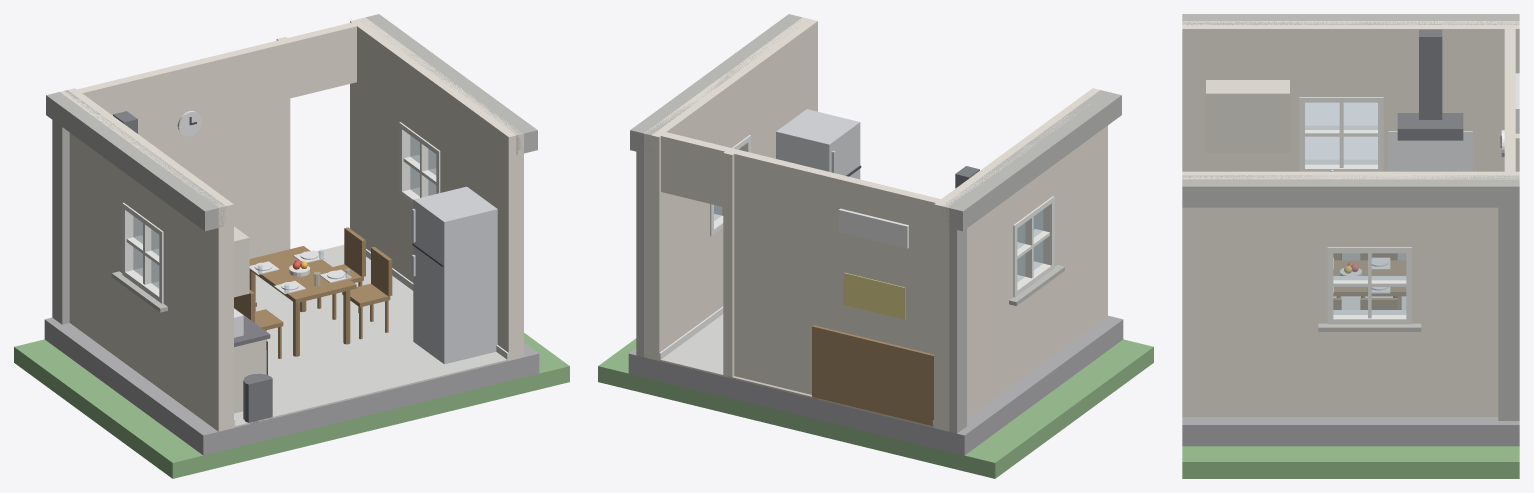
File: tube_kitchen.glb
3 views of the same model, side by side, from view 1: azimuth 30°, elevation 25°; view 2: azimuth 150°, elevation 25°; view 3: azimuth 270°, elevation 25° (orthographic). The views are drawn at different scales.
Visible parts, largest first — view 1: wall, floor_tile, grass, metal, concrete, foundation, wood, trim, cabinet, glass, steel_dark, white (+2 smaller); view 2: wall, concrete, grass, foundation, wood, metal, trim, cloth3, white, floor_tile, glass, floor_carpet; view 3: wall, concrete, grass, foundation, glass, trim, cabinet, steel_dark, wall_tile, wood, stone, white (+1 smaller).
Boxes of the visible parts, x1,y1,x2,y2 form: wall: (60,17,523,431); floor_tile: (234,249,508,427); grass: (14,333,569,478); metal: (411,186,497,364); concrete: (46,14,537,324); foundation: (44,317,539,455); wood: (234,227,392,358); trim: (122,122,508,426); cabinet: (234,226,266,413); glass: (133,136,435,293); steel_dark: (113,111,272,423); white: (177,111,344,337); wall: (644,17,1107,431); concrete: (630,14,1121,433); grass: (598,338,1153,478); foundation: (628,315,1123,455); wood: (812,325,933,425); metal: (776,109,860,179); trim: (659,135,1054,426); cloth3: (843,272,905,319); white: (838,208,908,248); floor_tile: (665,314,723,370); glass: (714,149,1042,281); floor_carpet: (728,376,933,427); wall: (1182,21,1519,416); concrete: (1182,14,1519,420); grass: (1182,446,1519,478); foundation: (1182,417,1519,446); glass: (1305,103,1405,314); trim: (1299,97,1411,324); cabinet: (1206,80,1406,260); steel_dark: (1397,29,1463,140); wall_tile: (1388,131,1472,171); wood: (1333,253,1406,309); stone: (1318,323,1421,331); white: (1339,73,1519,290).
Size of the model in its own units: 5.2 by 3.25 by 3.6.
